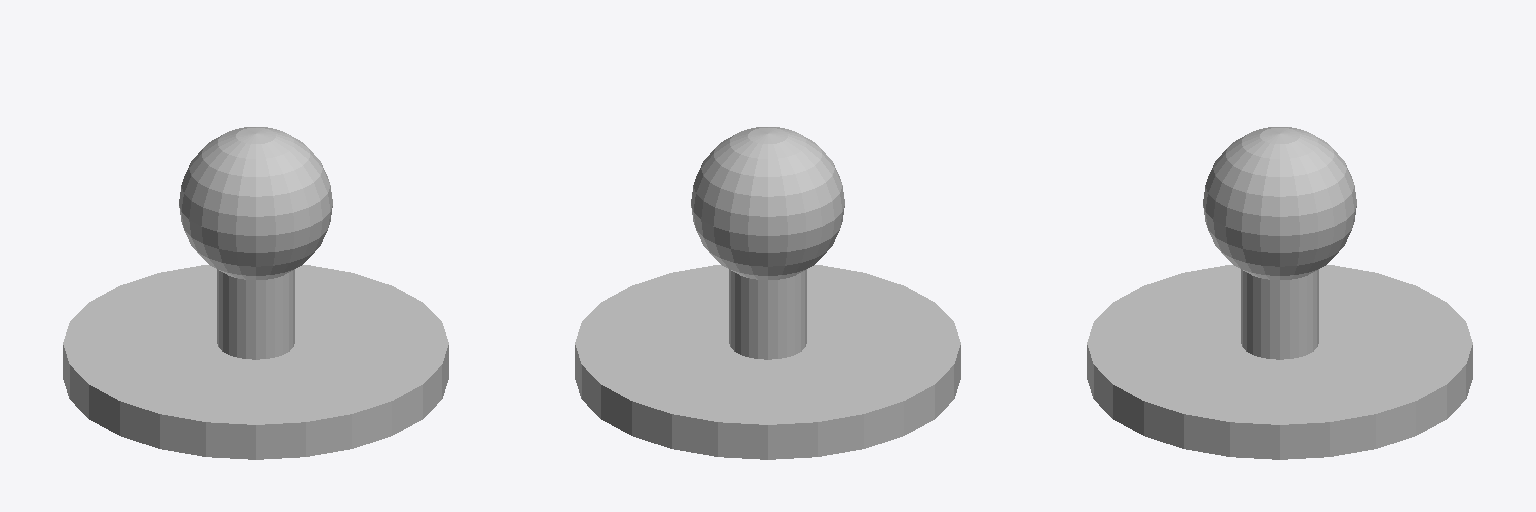
Rendered from attach.obj.
The picture shows the model from 3 angles: view 1: azimuth 30°, elevation 25°; view 2: azimuth 150°, elevation 25°; view 3: azimuth 270°, elevation 25°; orthographic projection.
Visible parts, largest first — view 1: Mesh1 Group1 Model; view 2: Mesh1 Group1 Model; view 3: Mesh1 Group1 Model.
Boxes of the visible parts, x1,y1,x2,y2 form: Mesh1 Group1 Model: [63, 127, 448, 459]; Mesh1 Group1 Model: [575, 127, 960, 459]; Mesh1 Group1 Model: [1087, 127, 1472, 459].
Bounding box in the file's own units: 0.1 × 0.07 × 0.1.